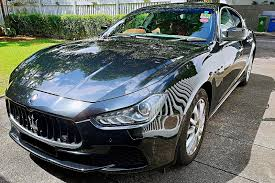car: (2, 4, 261, 175)
